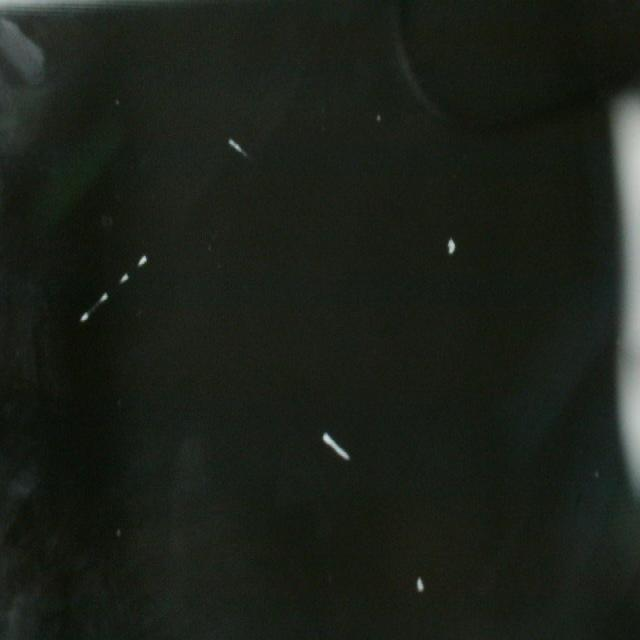scratch: (75, 245, 151, 328), (318, 423, 357, 470), (222, 130, 252, 165)
very small scratch: (412, 570, 430, 600), (444, 232, 458, 262)
